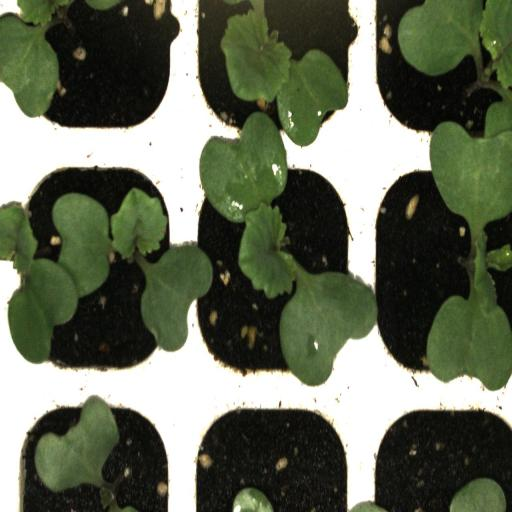seedling: (182, 147, 361, 388), (361, 146, 512, 388)
twoseedling: (7, 147, 181, 388)
